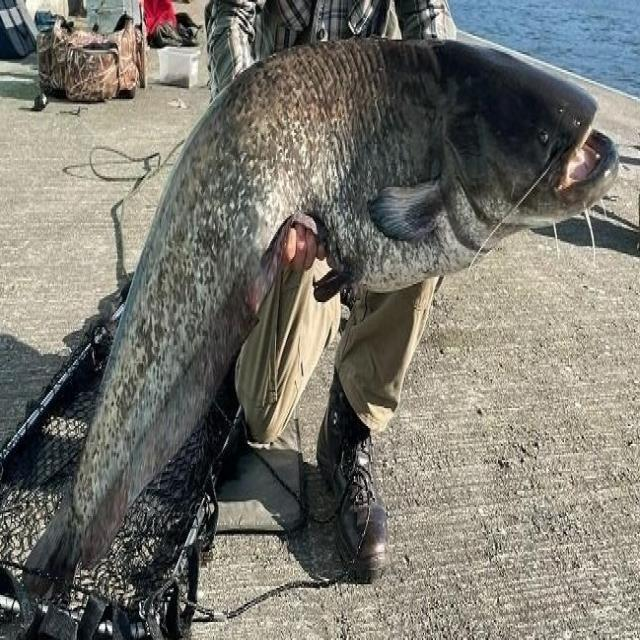Catfish: (24, 30, 628, 603)
